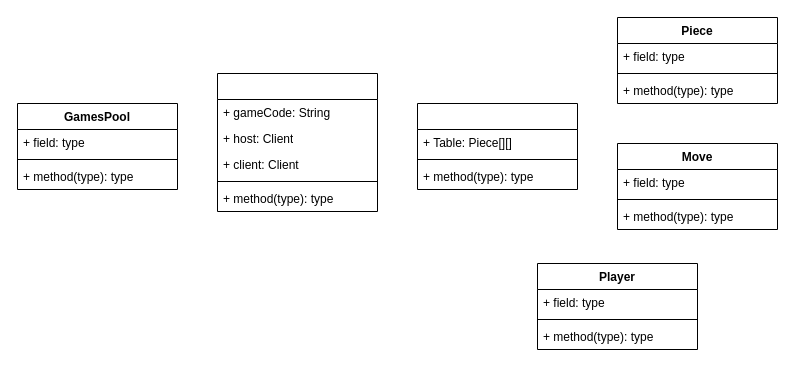
Image size: 795x370. Some labels were removed from this diagram. Each missing label, with the box of its shape:
Classname: (216, 72, 378, 212)
Game: (416, 102, 578, 190)
